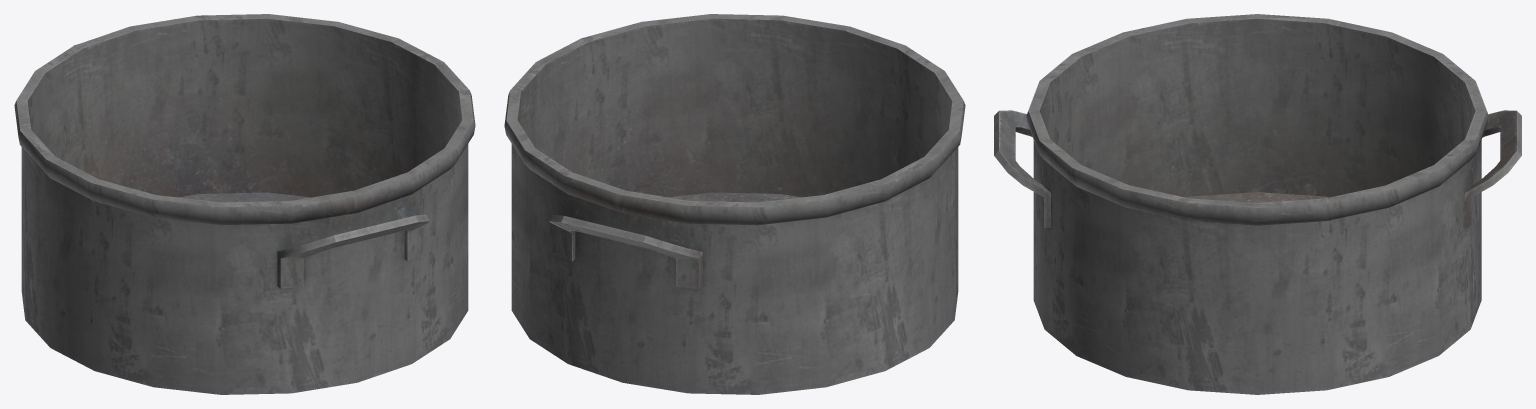
The model's file is pot.glb.
3 views of the same model, side by side, from view 1: azimuth 30°, elevation 25°; view 2: azimuth 150°, elevation 25°; view 3: azimuth 270°, elevation 25° (orthographic).
Parts seen in each view (by area): view 1: Cylinder001; view 2: Cylinder001; view 3: Cylinder001.
Boxes of the visible parts, bbox=[...] form: Cylinder001: bbox=[14, 14, 475, 394]; Cylinder001: bbox=[504, 14, 965, 394]; Cylinder001: bbox=[994, 14, 1521, 394].
Size of the model in its own units: 0.0415 by 0.0188 by 0.0474.
1 material, 1 textured.
